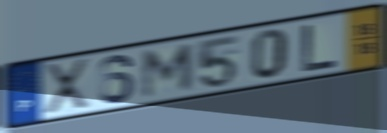0: (249, 27, 290, 82)
5: (196, 32, 241, 90)
6: (98, 53, 136, 105)
L: (300, 22, 340, 75)
M: (139, 41, 197, 101)
X: (43, 56, 92, 116)
